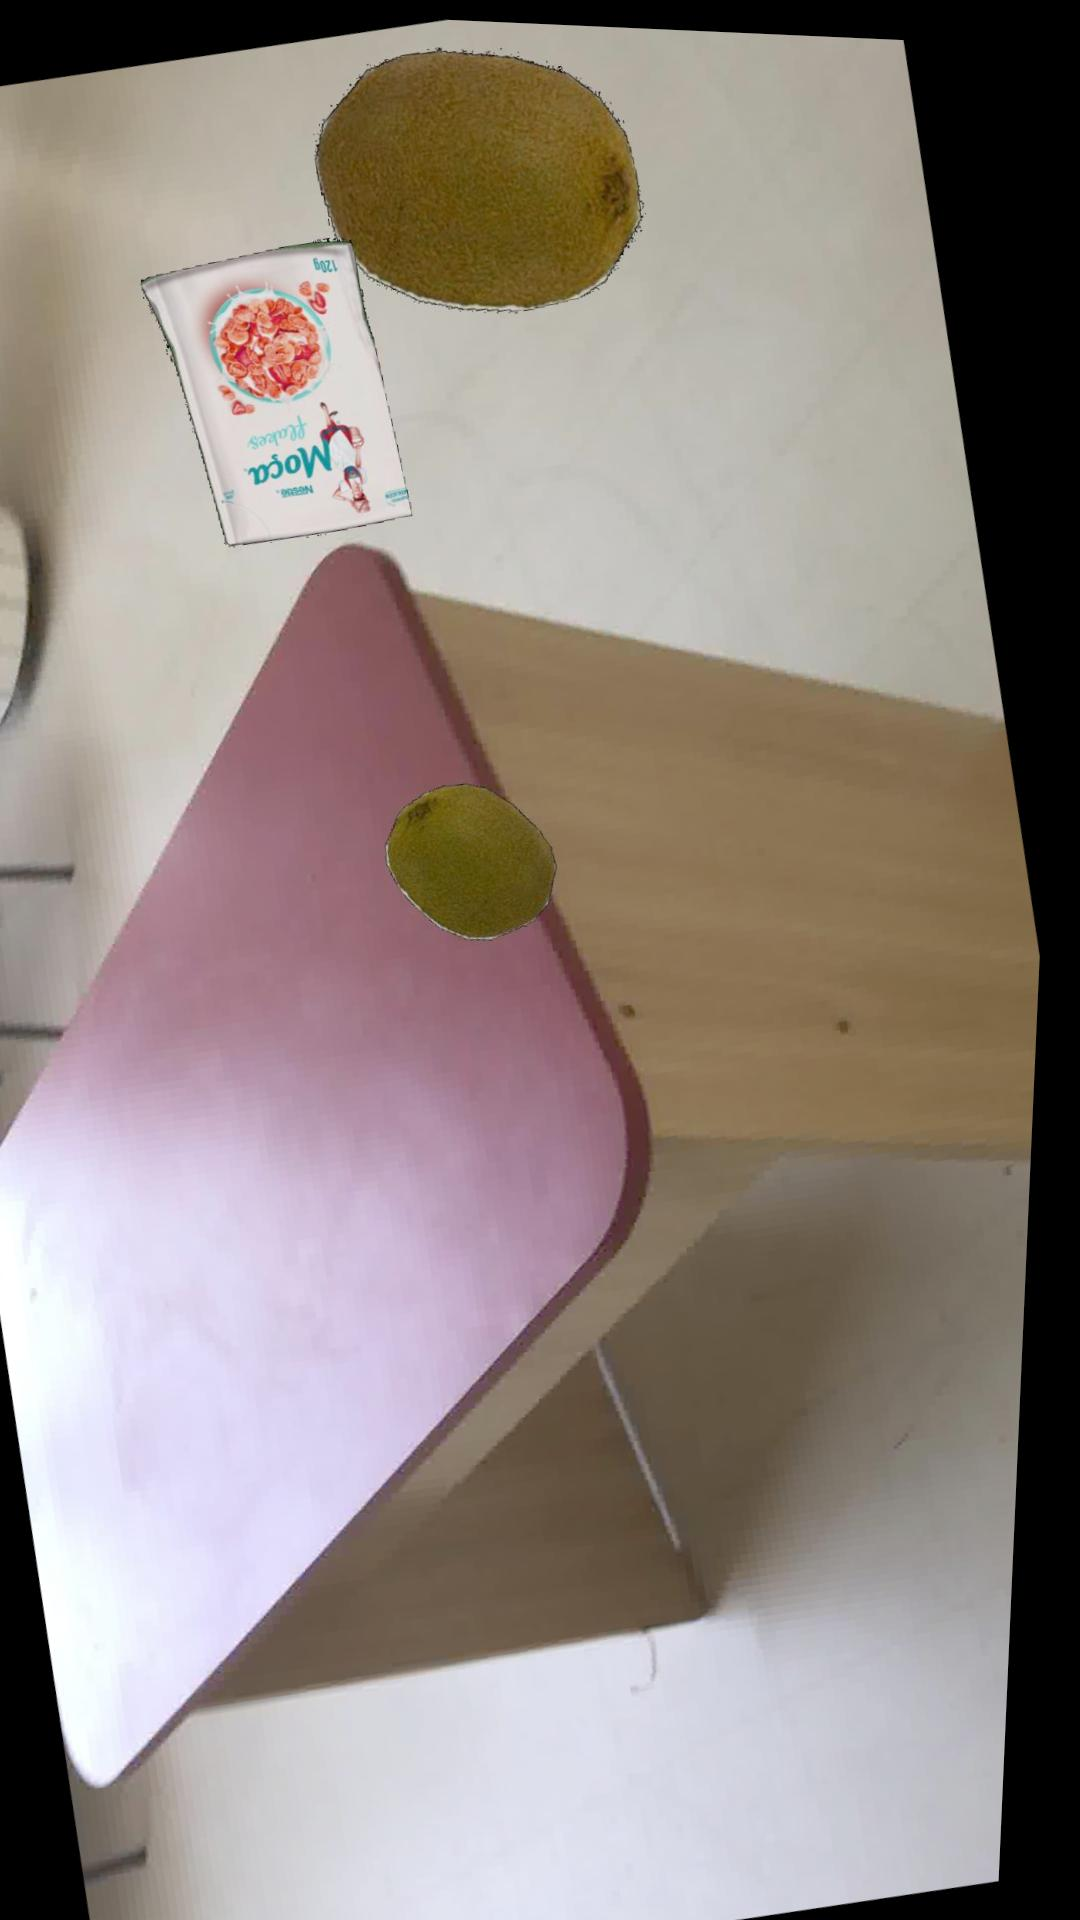corn flakes: (145, 236, 419, 545)
kiwi: (318, 45, 647, 309), (394, 779, 567, 936)
